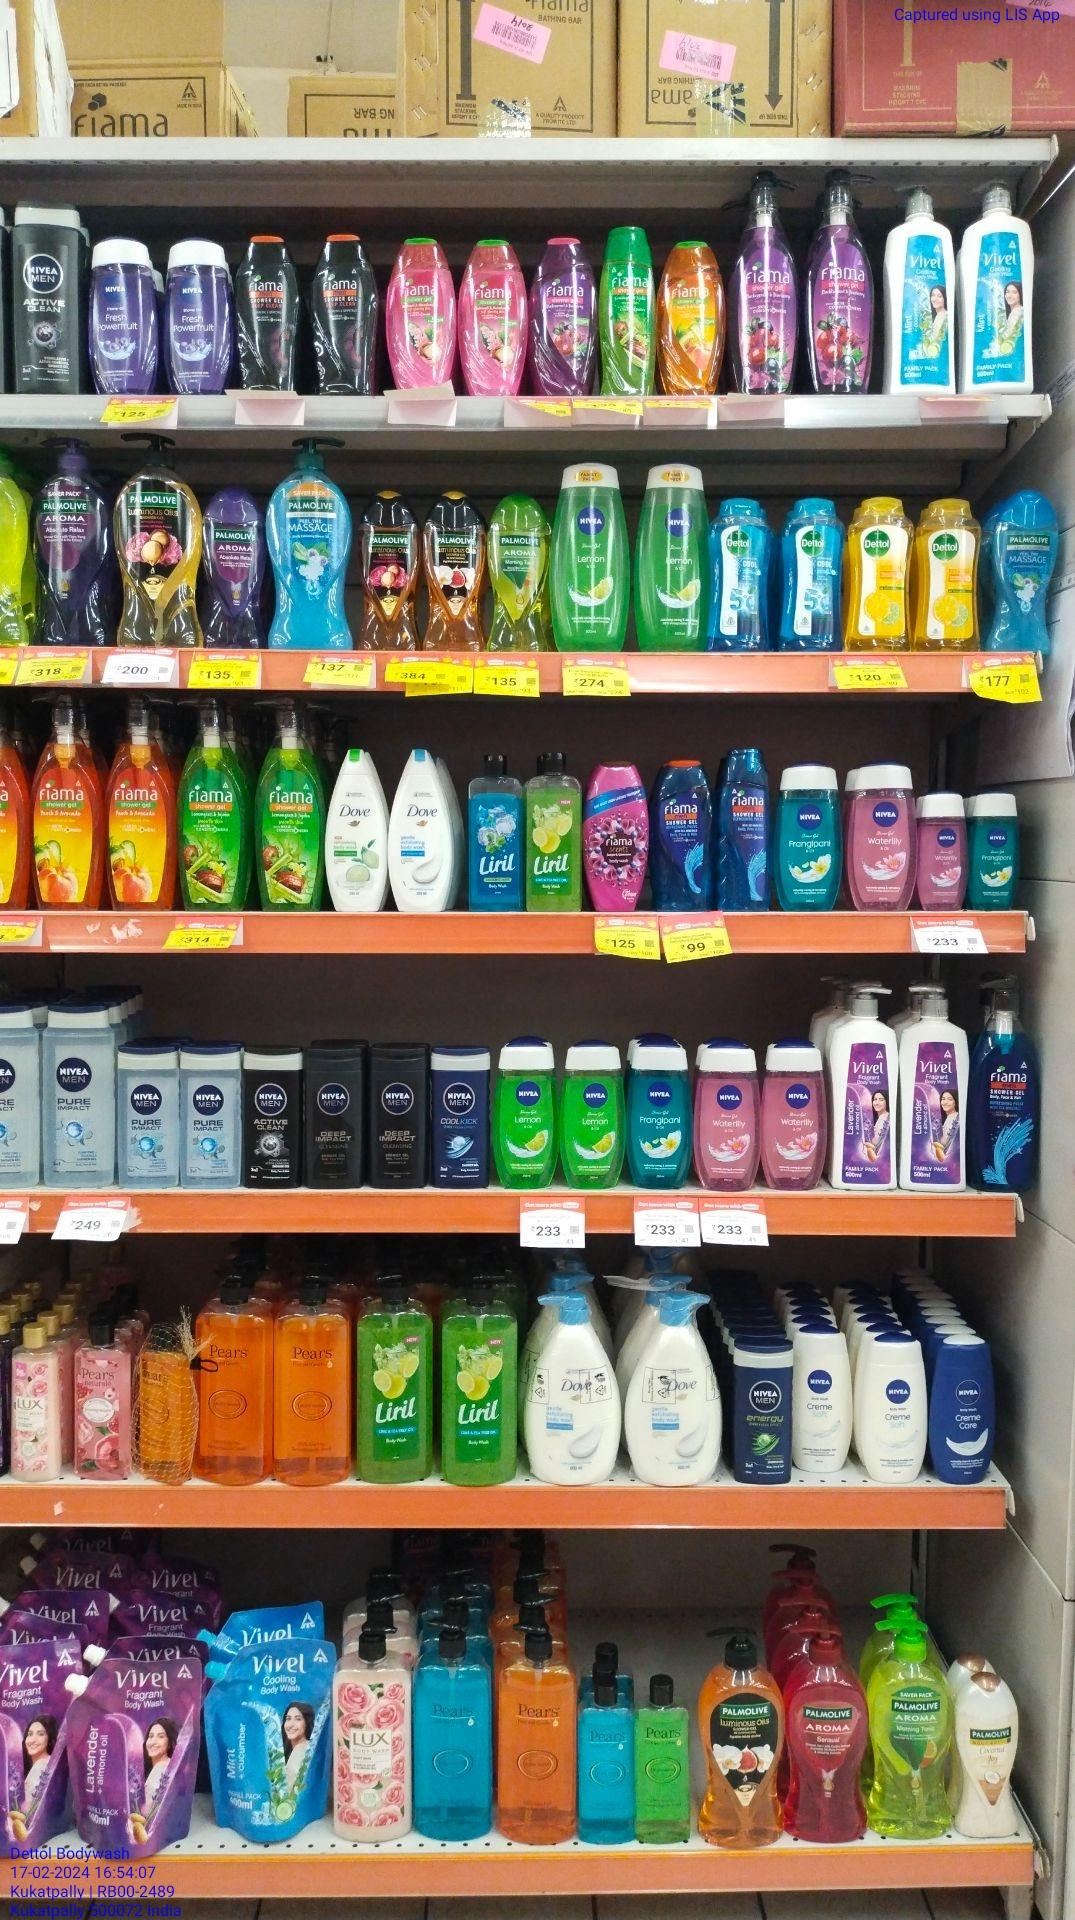Dettol_Bodywash_Cool: (777, 495, 840, 650), (712, 501, 773, 650)
Dettol_Bodywash_Refresh: (915, 495, 980, 653), (847, 495, 909, 653)
Dove_Gentle_Exfoliating_Body_Wash_250ML: (389, 745, 455, 913)
Dove_Refreshing_Body_Wash_250ML: (323, 748, 386, 911)
Fiama_Shower_Gel_Patchouli_and_Macadamia_250ML: (384, 239, 454, 388), (459, 239, 526, 393)
Fiama_Shower_Gel_Peach_and_Avocado_250ML: (657, 237, 723, 392)
Liril_Cooling_Mint_Body_Wash_250ML: (466, 753, 521, 911)
Liril_Lime_and_Tea_Tree_Oil_Body_Wash_250ML: (528, 748, 583, 914)
Nivea_Creme_Care_Body_Wash_250ML: (930, 1333, 992, 1484)
Nivea_Creme_Soft_Body_Wash_250ML: (855, 1331, 926, 1482), (793, 1325, 851, 1472)
Nivea_Shower_Gel_Frangipani_and_Oil_250ML: (776, 762, 842, 909), (627, 1040, 691, 1189)
Nivea_Shower_Gel_Fresh_Powerfruit_250ML: (88, 236, 161, 397), (164, 235, 224, 396)
Nivea_Shower_Gel_Lemon_and_Oil_250ML: (553, 463, 632, 649), (637, 464, 708, 649), (558, 1038, 621, 1189), (492, 1039, 554, 1188)
Nivea_Shower_Gel_Waterlily_and_Oil_250ML: (845, 762, 914, 911), (762, 1038, 827, 1189), (694, 1042, 756, 1191)
Palmolive_Aroma_Moments_Feel_The_Massage_Shower_Gel_250ML: (988, 483, 1051, 653)
Palmolive_Aroma_Morning_Tonic_Shower_Gel_250ML: (492, 491, 549, 650)
Palmolive_Aroma_Relax_250ML: (202, 487, 259, 645)
Palmolive_Coconut_Joy_Exfoliating_Body_Wash_250ML: (947, 1668, 1024, 1842)
Palmolive_Luminous_Oils_Invigorating_Macadamia_Oil_With_Peony_250ML: (357, 492, 418, 649)
Palmolive_Luminous_Oils_With_White_Orchid_Shower_Gel_250ML: (422, 492, 489, 649)
Pears_Pure_Glycerin_and_Lemon_Flower_Extracts_Body_Wash_250ML: (641, 1668, 692, 1845)
Pears_Pure_Glycerin_and_Mint_Extracts_Body_Wash_250ML: (575, 1672, 638, 1846)
